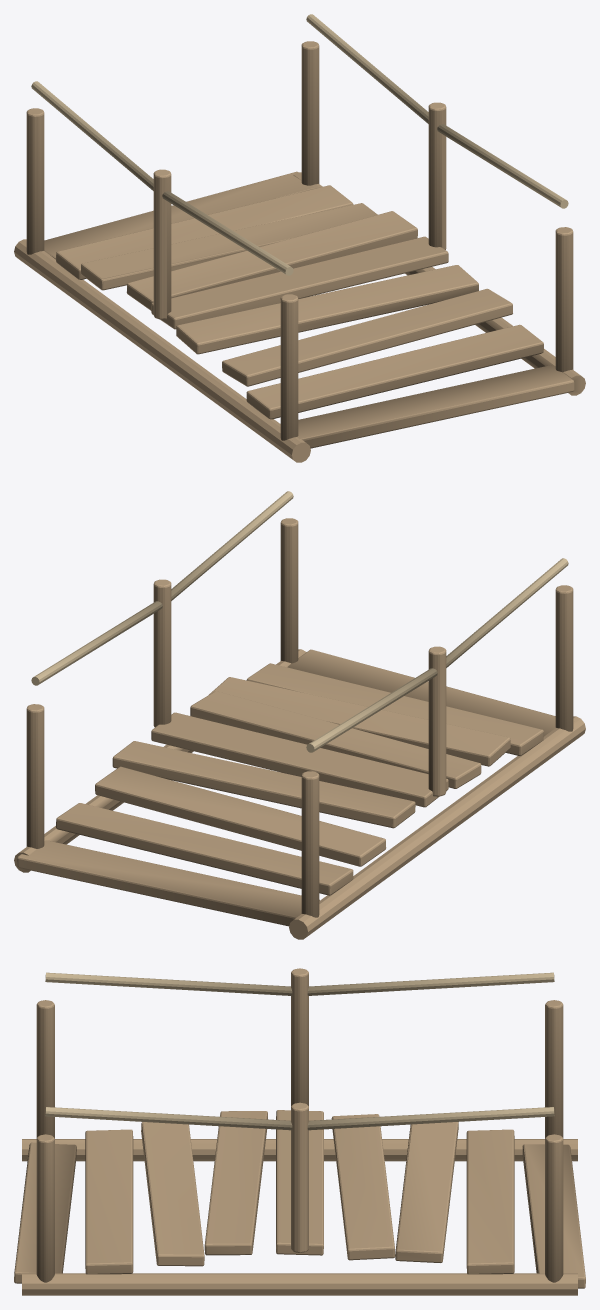
Rendered from plankBridge.glb.
3 renders of one model, top to bottom at view 1: azimuth 30°, elevation 25°; view 2: azimuth 150°, elevation 25°; view 3: azimuth 270°, elevation 25°, orthographic.
Parts seen in each view (by area): view 1: PlankBridge; view 2: PlankBridge; view 3: PlankBridge.
Boxes of the visible parts, box(x1,y1,x2,y2) form: PlankBridge: box(14, 14, 585, 462); PlankBridge: box(14, 491, 585, 939); PlankBridge: box(14, 968, 585, 1295).
Size of the model in its own units: 2.14 by 1.31 by 3.6.
